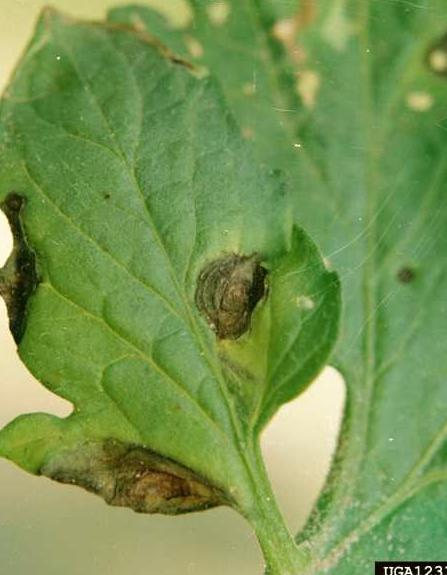Tomato leaf late blight: (0, 0, 379, 564)
